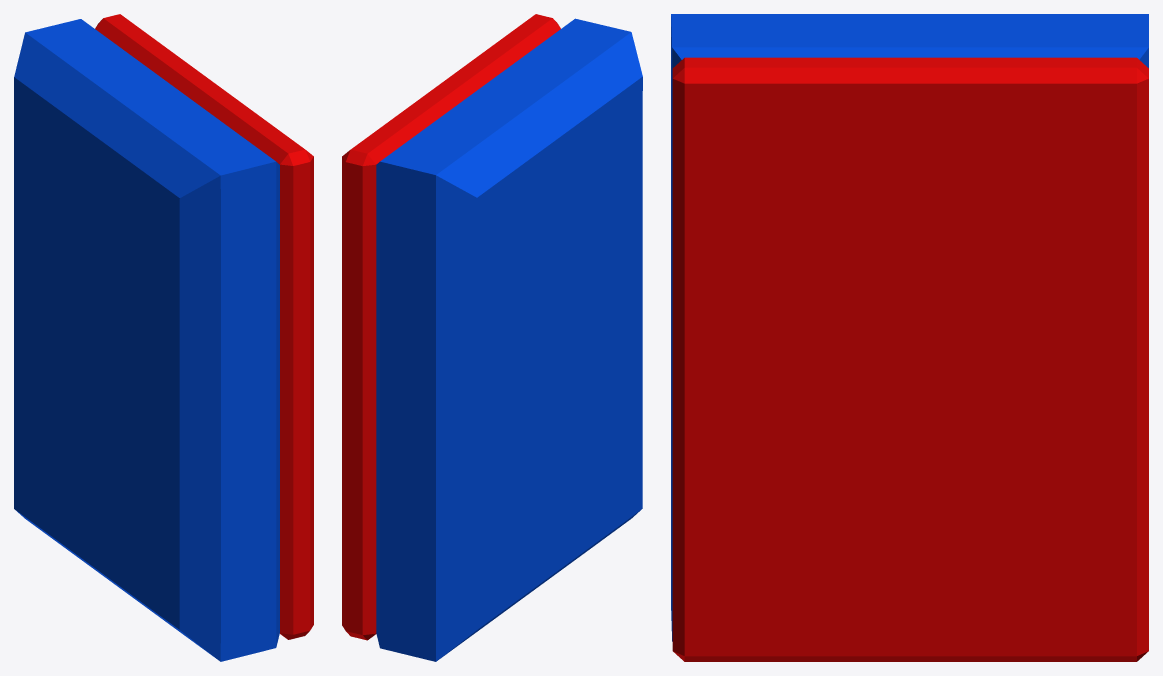
Rendered from Alarmbox_Open.fbx.
3 views of the same model, side by side, from view 1: azimuth 30°, elevation 25°; view 2: azimuth 150°, elevation 25°; view 3: azimuth 270°, elevation 25° (orthographic). The views are drawn at different scales.
Visible parts, largest first — view 1: polySurface1, polySurface2; view 2: polySurface1, polySurface2; view 3: polySurface2, polySurface1.
Boxes of the visible parts, box(x1,y1,x2,y2) form: polySurface1: box(14, 19, 279, 661); polySurface2: box(95, 14, 313, 639); polySurface1: box(376, 18, 642, 661); polySurface2: box(342, 14, 560, 640); polySurface2: box(672, 57, 1148, 661); polySurface1: box(671, 14, 1148, 641).
Bounding box in the file's own units: 1.78 × 6.63 × 4.83.
